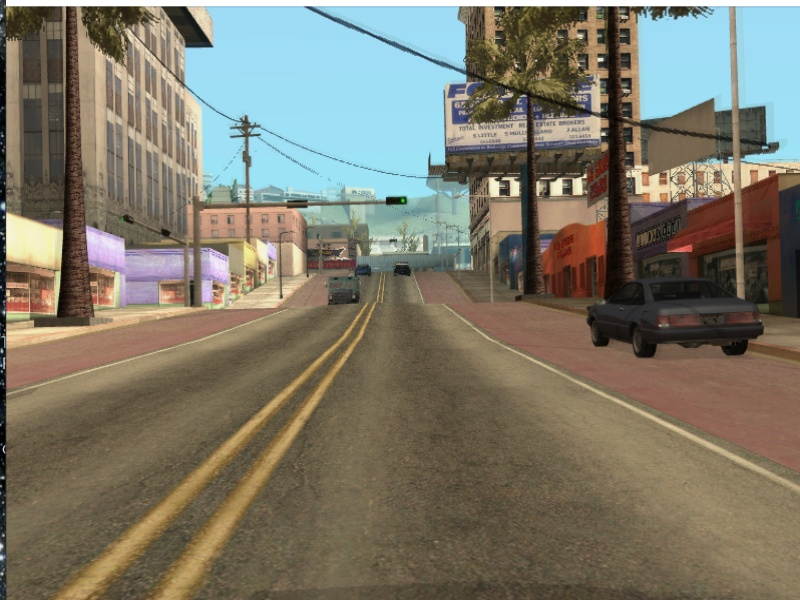pole: (725, 9, 761, 293), (180, 197, 206, 308), (275, 232, 288, 305)
tree: (60, 10, 95, 322), (605, 14, 639, 283), (523, 99, 548, 299)
vehicle: (565, 272, 769, 367), (325, 275, 364, 305), (390, 262, 414, 279)
